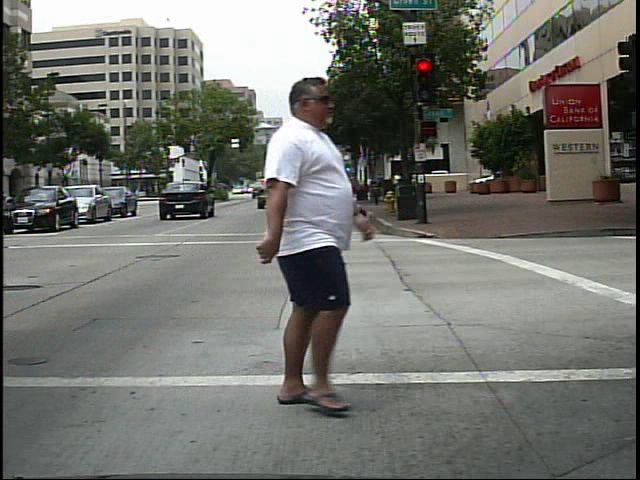person: (221, 72, 370, 415)
